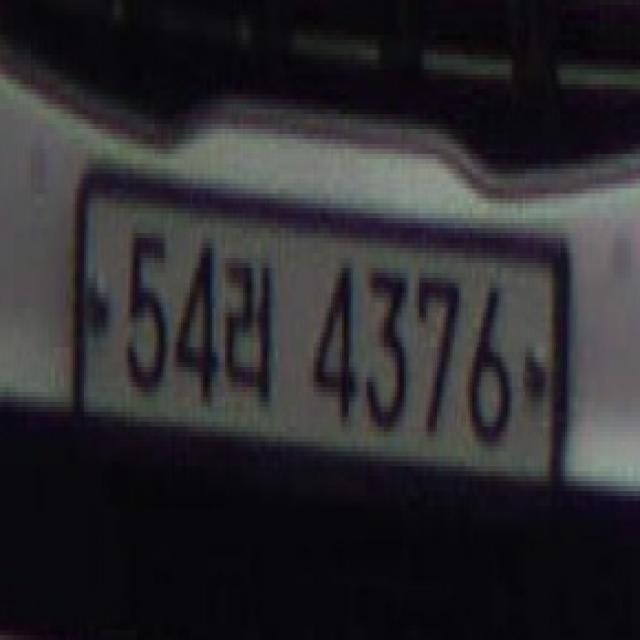3: (364, 228, 417, 452)
4: (307, 218, 364, 446), (174, 218, 223, 432)
5: (110, 198, 174, 426)
6: (468, 268, 518, 456)
7: (415, 224, 463, 462)
leo: (217, 223, 280, 417)
license_plate: (64, 164, 576, 531)
